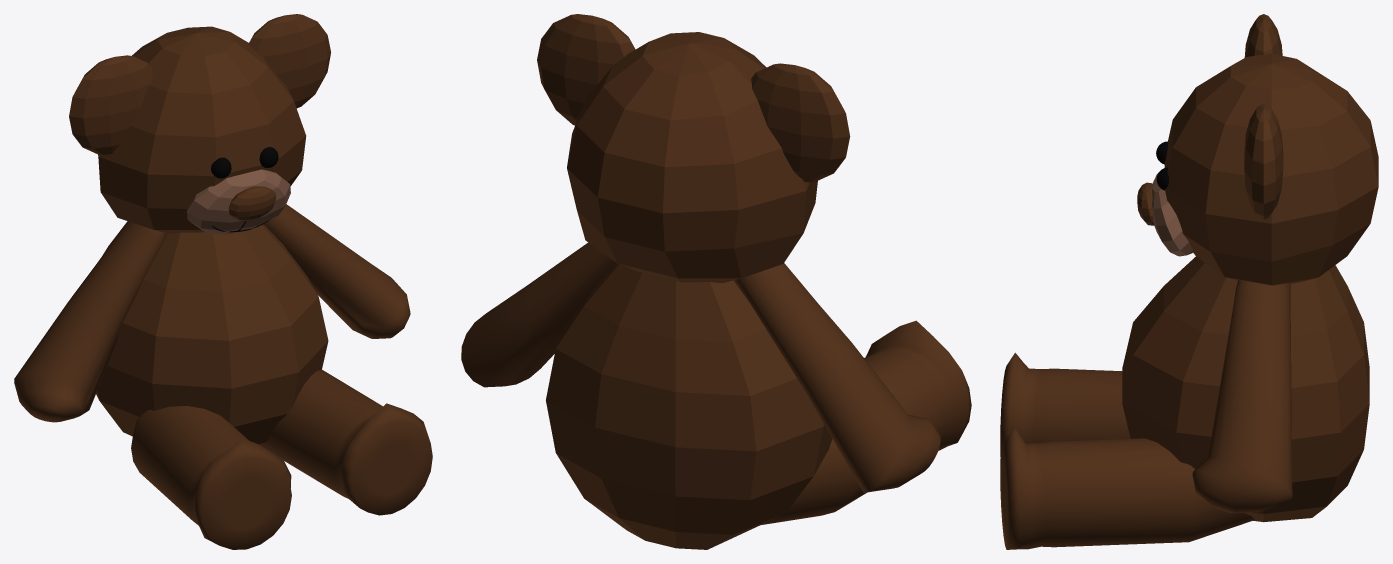
Rendered from OBJ_Teddy_Bear.obj.
The picture shows the model from 3 angles, left to right: view 1: azimuth 30°, elevation 25°; view 2: azimuth 150°, elevation 25°; view 3: azimuth 270°, elevation 25°; orthographic projection. The views are drawn at different scales.
Parts seen in each view (by area): view 1: TeddyBear; view 2: TeddyBear; view 3: TeddyBear.
Boxes of the visible parts, x1,y1,x2,y2 form: TeddyBear: (14,14,432,549); TeddyBear: (461,14,971,549); TeddyBear: (1000,14,1378,549).
Size of the model in its own units: 13.67 by 14.17 by 10.91.
